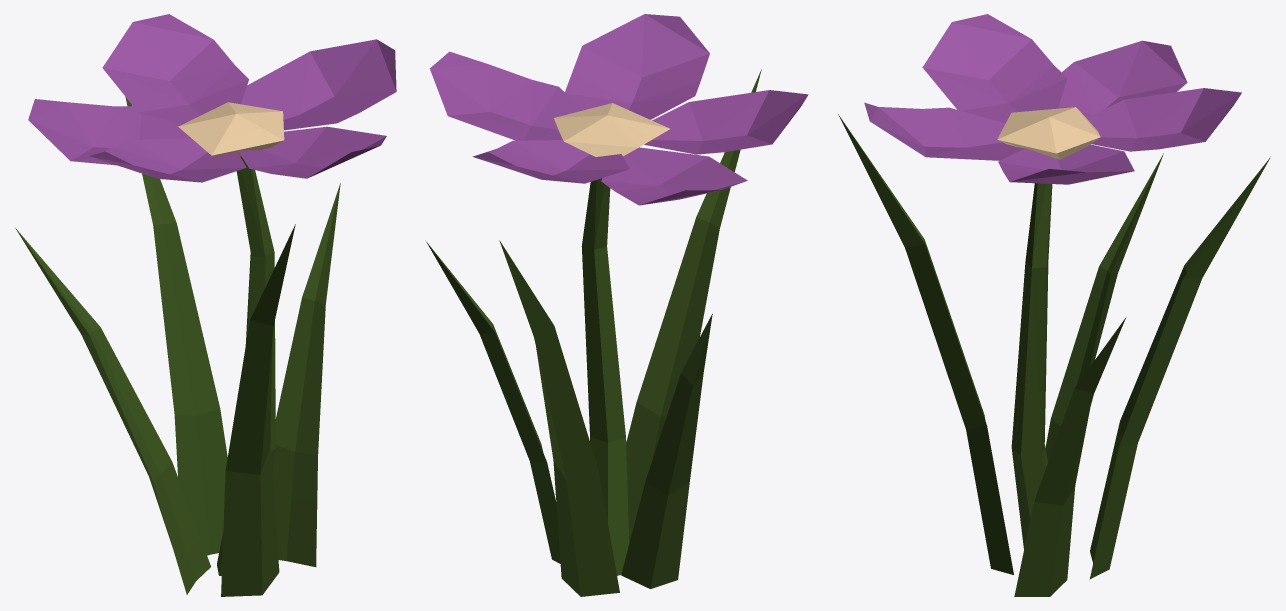
The model's file is Flower_03.fbx.
3 renders of one model, left to right at view 1: azimuth 30°, elevation 25°; view 2: azimuth 150°, elevation 25°; view 3: azimuth 270°, elevation 25°, orthographic.
Visible parts, largest first — view 1: Flower_03; view 2: Flower_03; view 3: Flower_03.
Part boxes in pixels (x1=…): Flower_03: x1=15, y1=14, x2=396, y2=596; Flower_03: x1=425, y1=14, x2=808, y2=596; Flower_03: x1=838, y1=14, x2=1270, y2=596.
Bounding box in the file's own units: 27.75 × 39.81 × 32.68.
